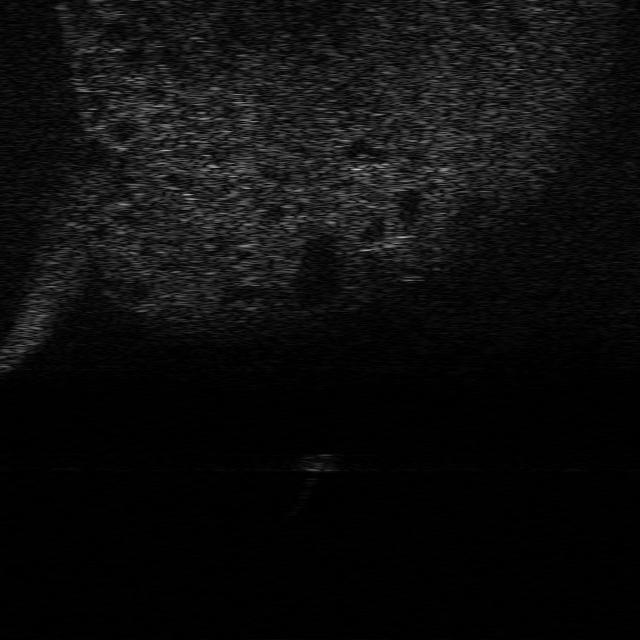cube: (300, 452, 338, 472)
